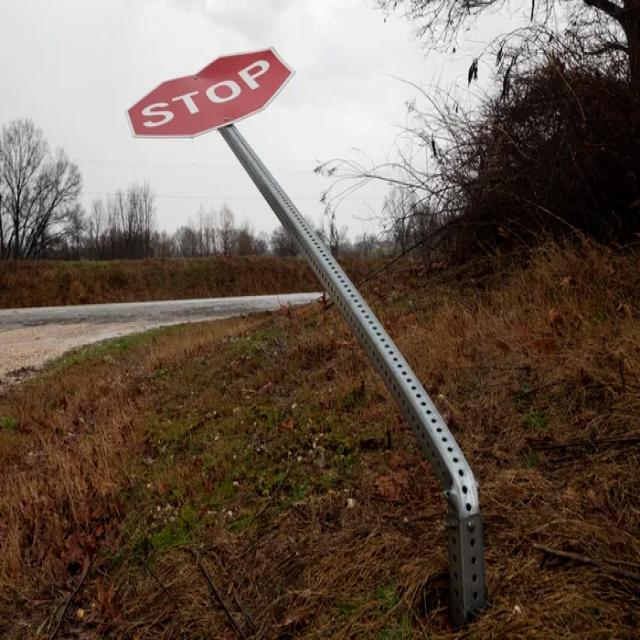Inclined Pole: (111, 5, 536, 617)
